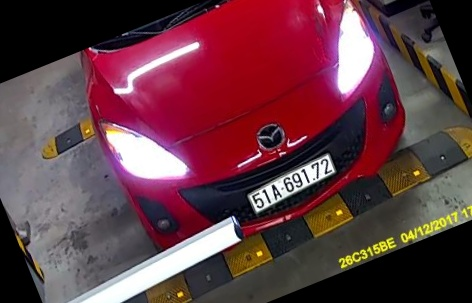plate: (232, 156, 347, 211)
